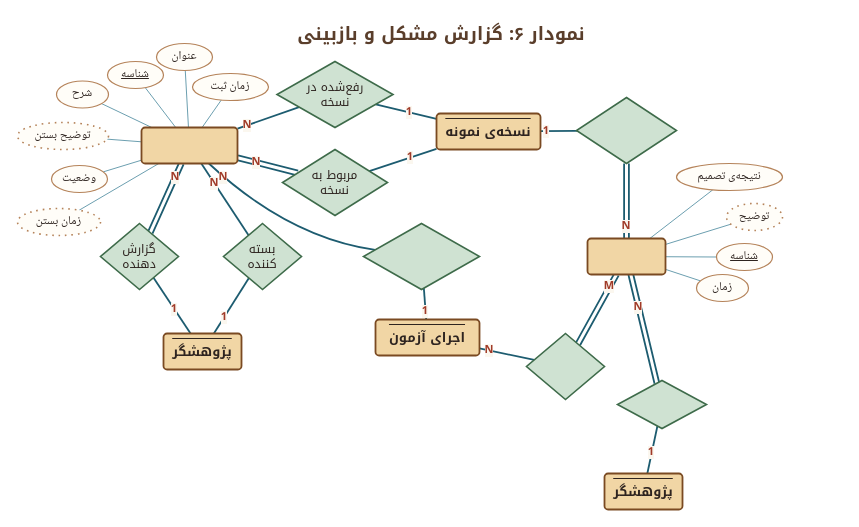
This 859x527 diagram has some shape labels left out. The shapes that lost their labels are listed below. From the top down, each one's box as (x1, y1, x2, y2) in pixels, then its label:
(140, 126, 238, 164): گزارش مشکل
(575, 96, 677, 164): بازبینی نسخه
(362, 222, 480, 290): مشاهده در اجرا
(586, 237, 666, 275): بازبینی
(525, 332, 605, 400): شاهد تصمیم
(616, 379, 707, 429): بازبین
